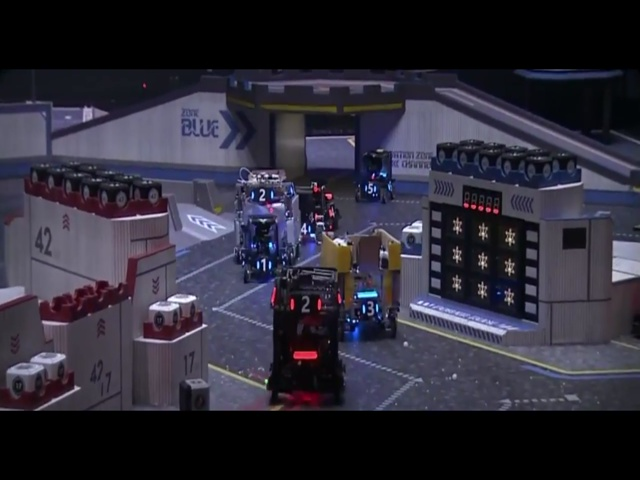bluePlate: (353, 294, 380, 319), (248, 252, 275, 275), (248, 185, 278, 203), (359, 181, 385, 198), (297, 219, 314, 242)
redPlate: (287, 293, 323, 322), (318, 199, 339, 221)
